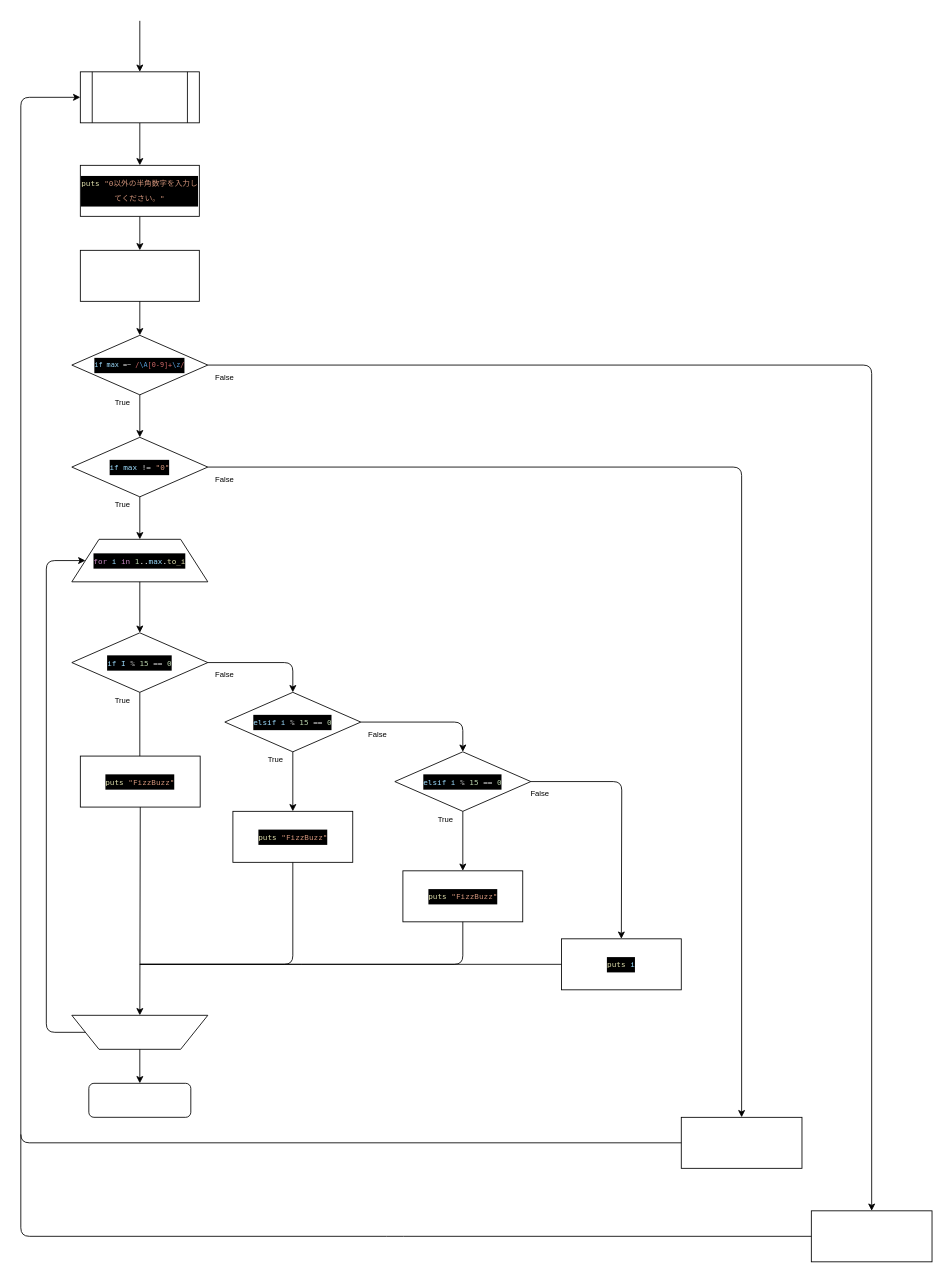
The diagram is 947 pixels wide and 1277 high, and some of its shapes have lost their labels. Here are the shapes that lost their labels. From the top down, the centre of each, then its label:
pixel 139 97: while true
pixel 139 275: max = gets . chomp
pixel 139 1099: break
pixel 741 1142: puts "0が入力されています。"
pixel 871 1236: puts "数字を認識できませんでした。"
